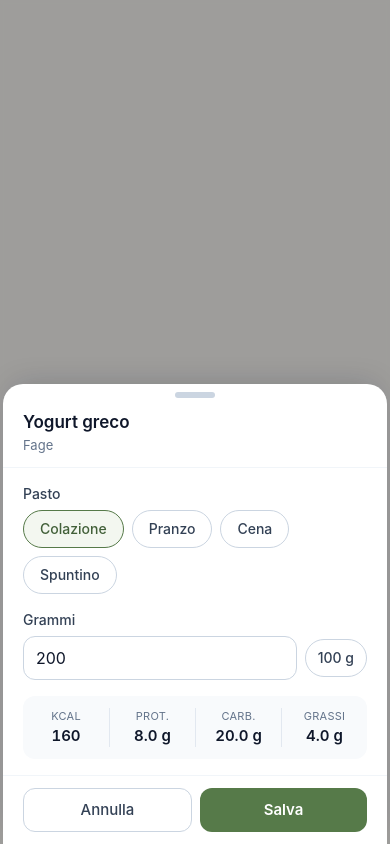
Test: EditEntrySheet › disables Salva while the patch is in flight
Click the button "Salva" at (284, 810), box top-left (200, 788), bottom-right (367, 832)
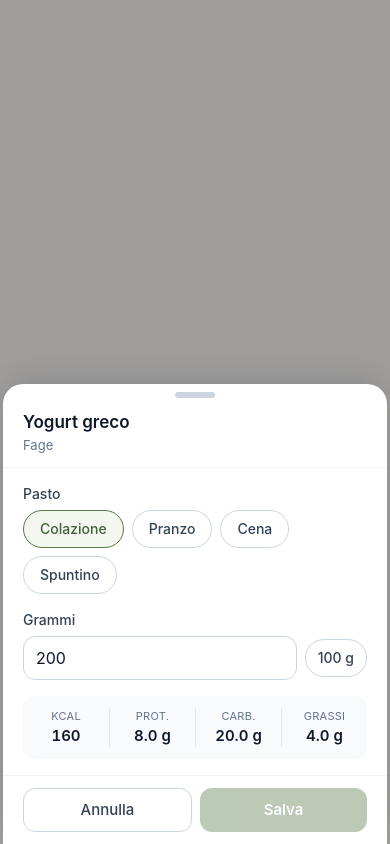
Expected: the button "Salva" is disabled, top-left (200, 788), bottom-right (367, 832)
